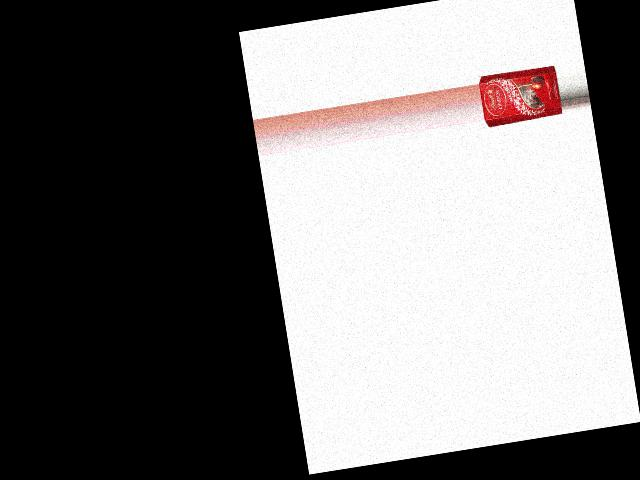chocolate: (477, 61, 563, 129)
